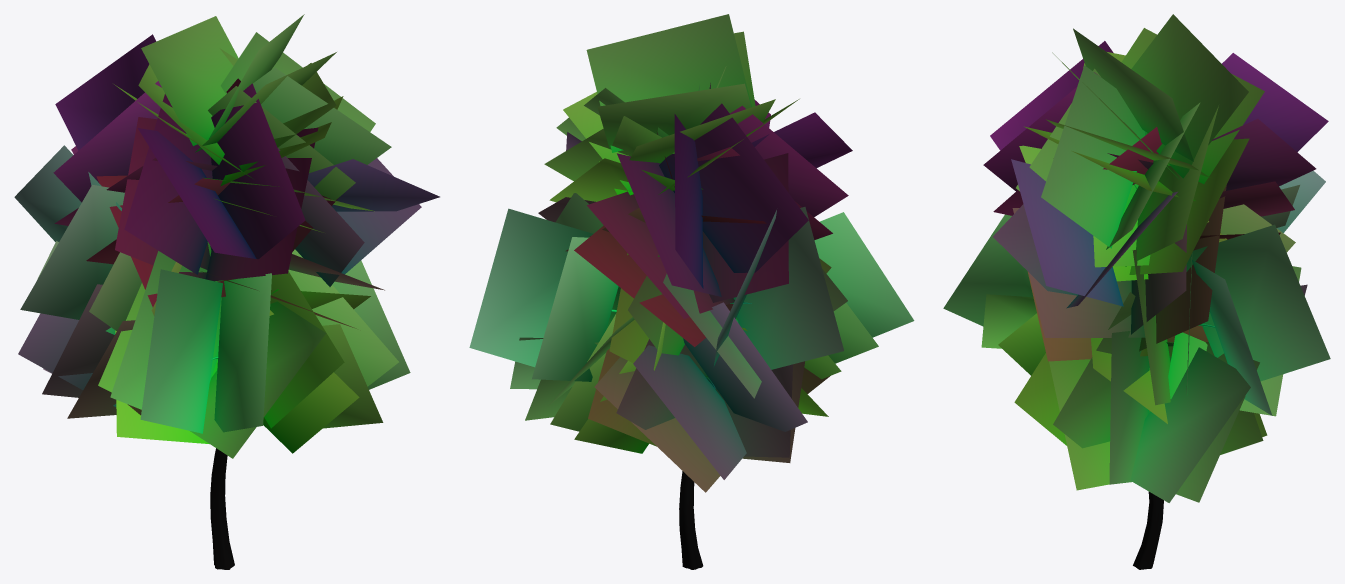
Rendered from M_P15_Tree_2.fbx.
The picture shows the model from 3 angles, left to right: view 1: azimuth 30°, elevation 25°; view 2: azimuth 150°, elevation 25°; view 3: azimuth 270°, elevation 25°; orthographic projection. The views are drawn at different scales.
Parts seen in each view (by area): view 1: Tree_2; view 2: Tree_2; view 3: Tree_2.
Boxes of the visible parts, x1,y1,x2,y2 form: Tree_2: (14,14,439,569); Tree_2: (469,14,914,569); Tree_2: (943,14,1330,569).
Size of the model in its own units: 503 by 734 by 480.
